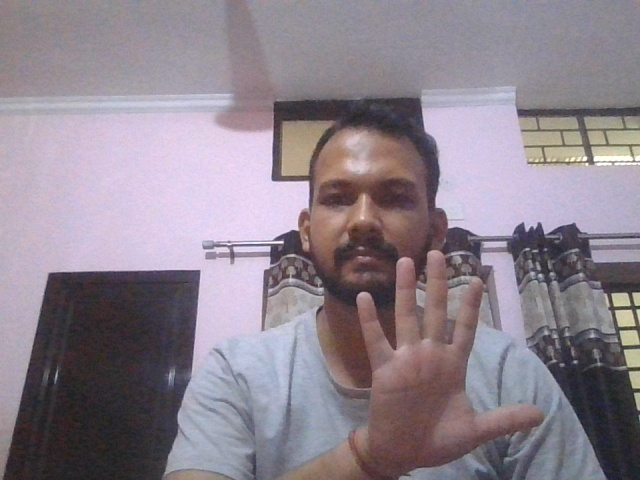hello: (353, 250, 543, 474)
